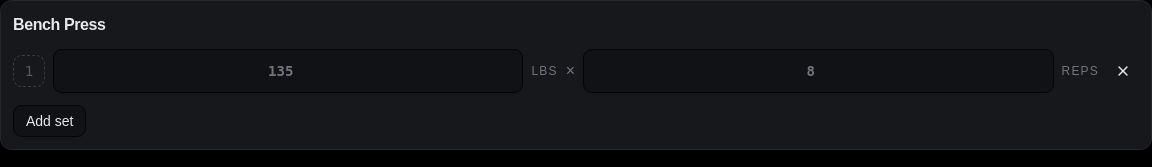
Test: SessionExerciseCard set fields › accepts the whole row from its Ghost Values on one touch, and selects what arrives
Click the number field named "Set 1 weight (lbs) for Bench Press" at point(288, 71), box x1=53 y1=49 x2=523 y2=93
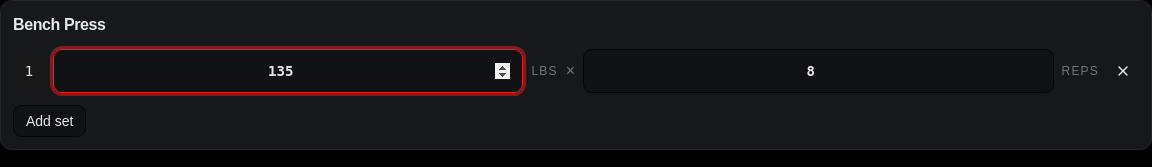
Expected: the number field named "Set 1 weight (lbs) for Bench Press" holds "135", x1=53 y1=49 x2=523 y2=93
Expected: the number field named "Set 1 reps for Bench Press" holds "8", x1=583 y1=49 x2=1054 y2=93
